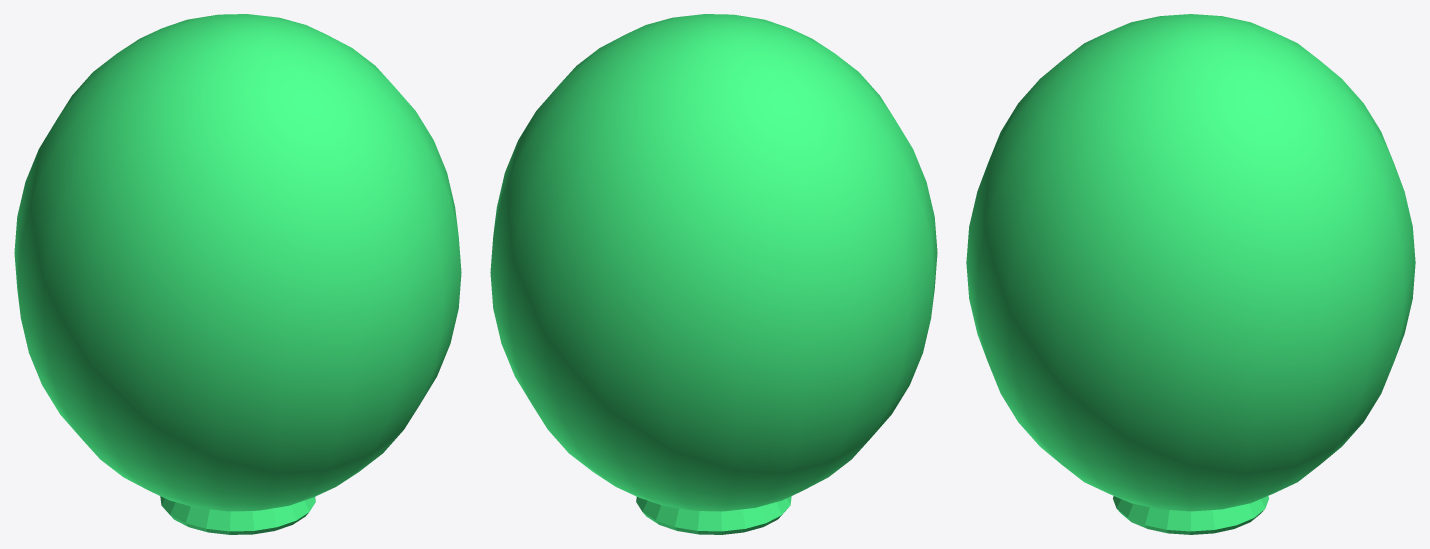
The model's file is greenBalloon.fbx.
3 renders of one model, left to right at view 1: azimuth 30°, elevation 25°; view 2: azimuth 150°, elevation 25°; view 3: azimuth 270°, elevation 25°, orthographic.
Visible parts, largest first — view 1: pSphere1; view 2: pSphere1; view 3: pSphere1.
Part boxes in pixels (box(x1,y1,x2,y2)): pSphere1: box(14, 14, 461, 534); pSphere1: box(490, 14, 937, 534); pSphere1: box(966, 14, 1415, 534).
Bounding box in the file's own units: 3 × 3.56 × 3.
1 material, 1 textured.
